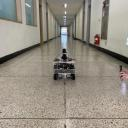cart: (53, 58, 76, 80)
